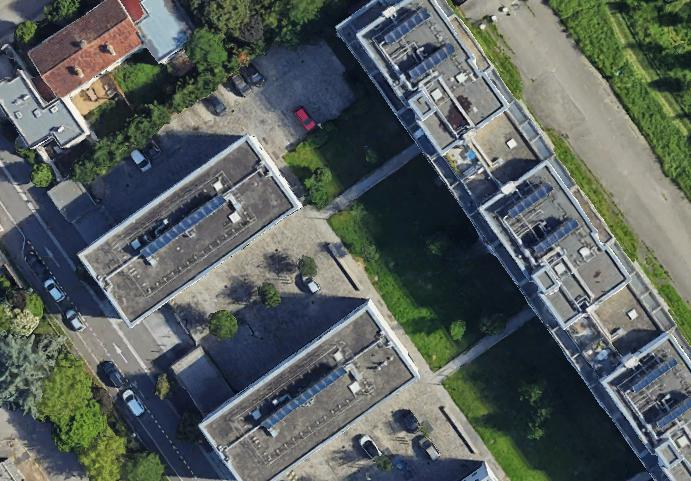immeuble: (331, 0, 691, 481), (73, 130, 303, 332), (195, 297, 425, 481), (463, 462, 497, 481)
maison: (24, 0, 149, 106)
